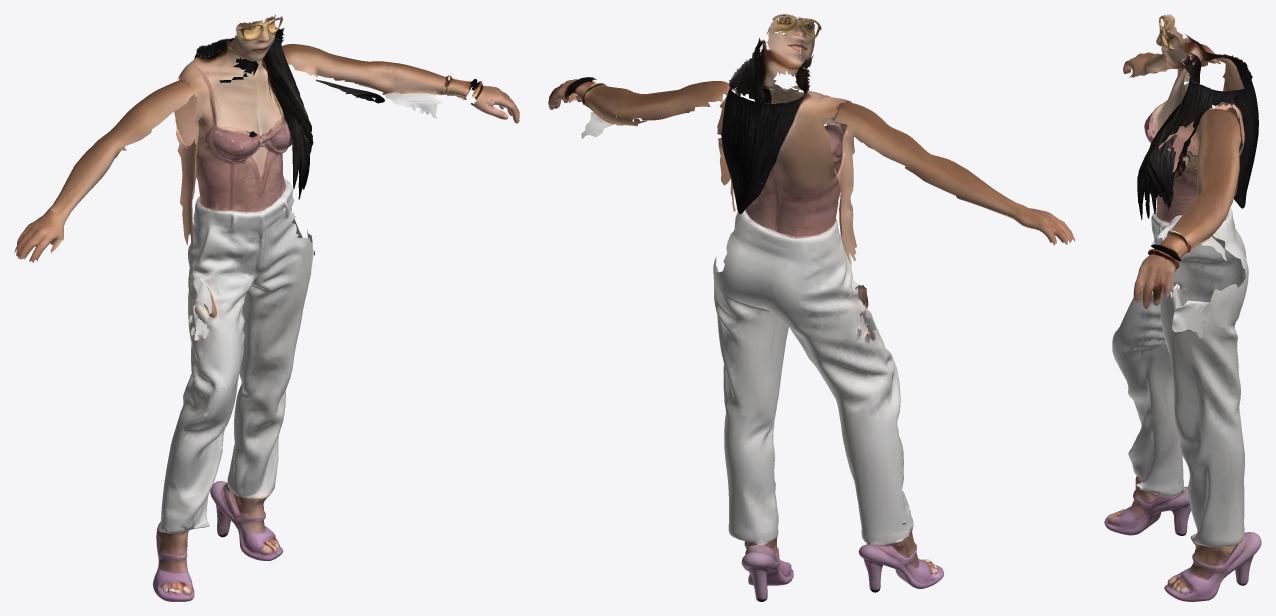
Rendered from nova_nohat.fbx.
3 renders of one model, left to right at view 1: azimuth 30°, elevation 25°; view 2: azimuth 150°, elevation 25°; view 3: azimuth 270°, elevation 25°, orthographic. The views are drawn at different scales.
Visible parts, largest first — view 1: model; view 2: model; view 3: model.
Part boxes in pixels (box(x1,y1,x2,y2)): model: box(14, 14, 519, 601); model: box(548, 14, 1075, 601); model: box(1104, 14, 1261, 601).
Size of the model in its own units: 1.65 by 1.7 by 0.4282.
1 material, 1 textured.
